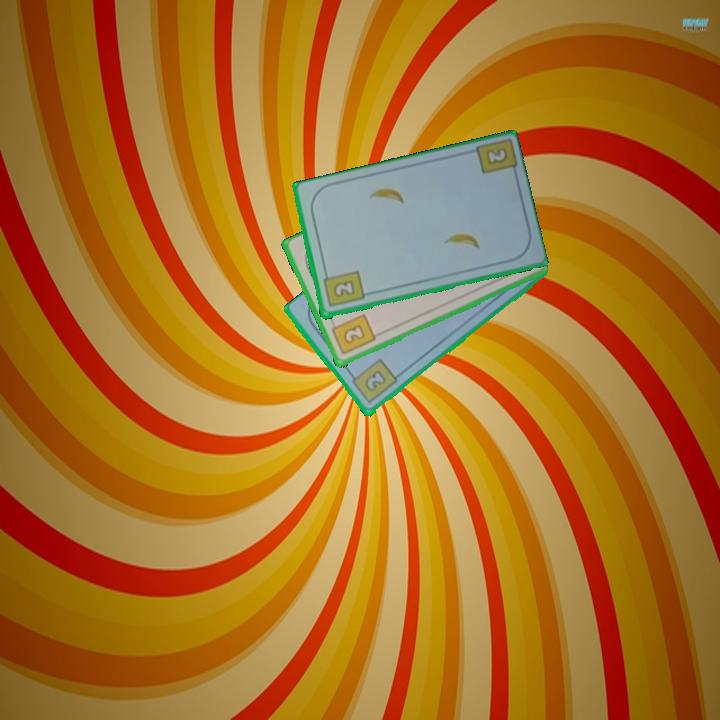2b: (346, 356, 400, 407), (327, 311, 378, 358), (319, 268, 367, 310), (482, 144, 510, 168)
